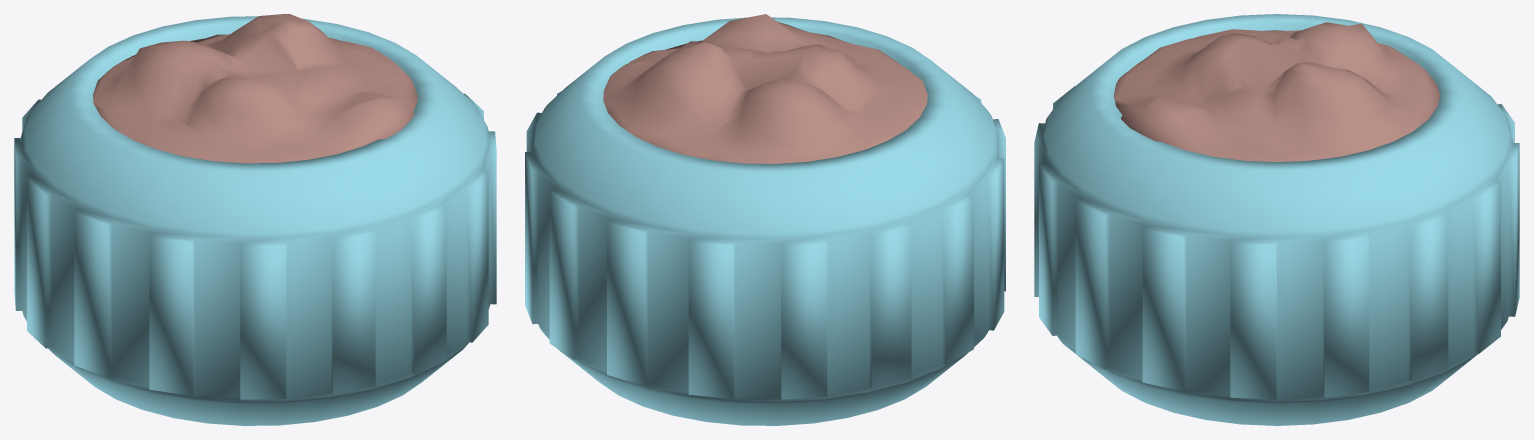
File: pot_blue.glb
3 views of the same model, side by side, from view 1: azimuth 30°, elevation 25°; view 2: azimuth 150°, elevation 25°; view 3: azimuth 270°, elevation 25° (orthographic).
Parts seen in each view (by area): view 1: 圆环.003, 泥土.004; view 2: 圆环.003, 泥土.004; view 3: 圆环.003, 泥土.004.
Part boxes in pixels (x1=…): 圆环.003: x1=14, y1=16, x2=496, y2=425; 泥土.004: x1=93, y1=14, x2=417, y2=163; 圆环.003: x1=525, y1=17, x2=1005, y2=425; 泥土.004: x1=603, y1=14, x2=927, y2=163; 圆环.003: x1=1034, y1=14, x2=1519, y2=425; 泥土.004: x1=1113, y1=22, x2=1439, y2=161.
Bounding box in the file's own units: 0.7242 × 0.5033 × 0.7242.
